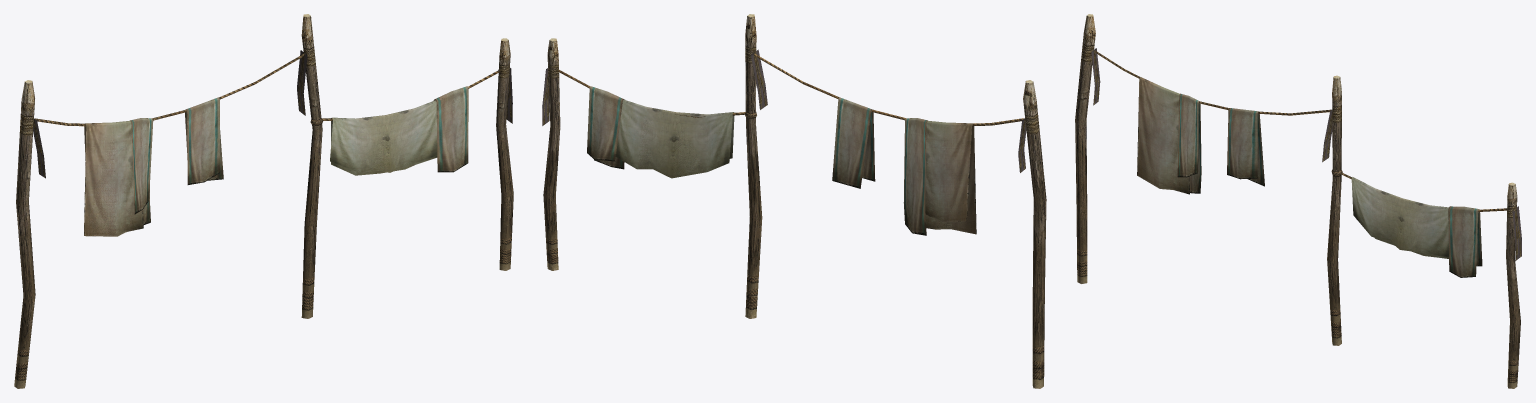
Rendered from kiosk1.fbx.
3 renders of one model, left to right at view 1: azimuth 30°, elevation 25°; view 2: azimuth 150°, elevation 25°; view 3: azimuth 330°, elevation 25°, orthographic. The views are drawn at different scales.
Visible parts, largest first — view 1: LV_M5_Port_LaundryPole02_SM_SVR; view 2: LV_M5_Port_LaundryPole02_SM_SVR; view 3: LV_M5_Port_LaundryPole02_SM_SVR.
Boxes of the visible parts, x1,y1,x2,y2 form: LV_M5_Port_LaundryPole02_SM_SVR: [14, 14, 513, 388]; LV_M5_Port_LaundryPole02_SM_SVR: [542, 14, 1046, 388]; LV_M5_Port_LaundryPole02_SM_SVR: [1075, 14, 1521, 388].
Size of the model in its own units: 2 by 1.17 by 0.0989.
1 material, 1 textured.
